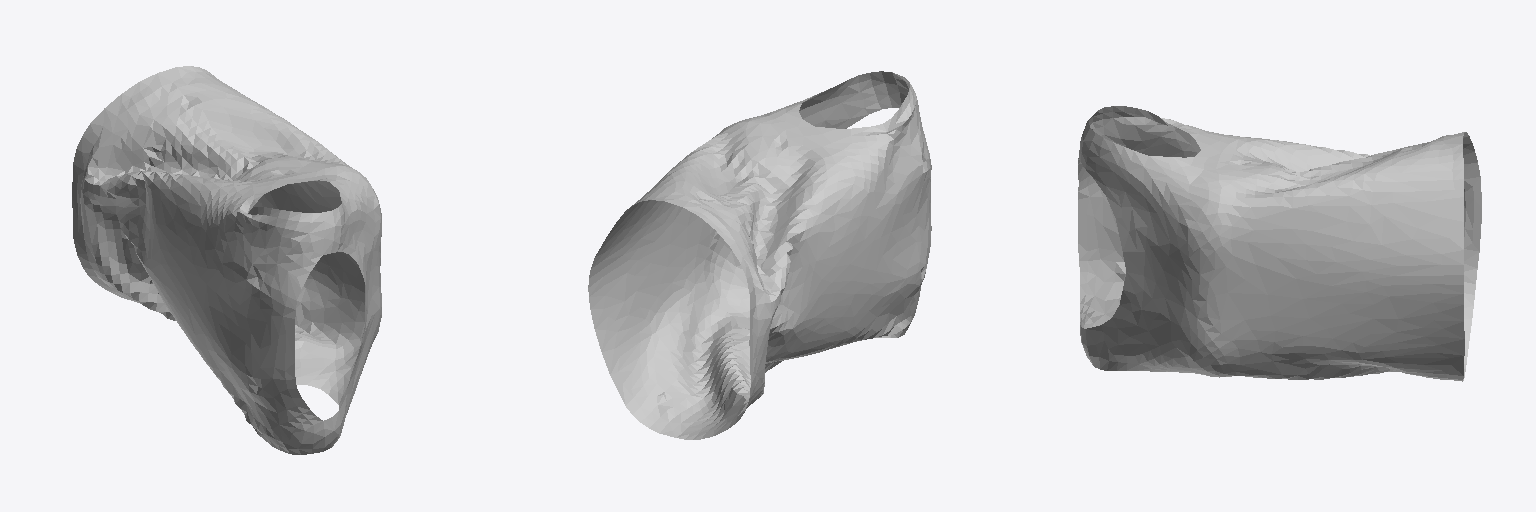
Rendered from crewneck_sparser.obj.
3 views of the same model, side by side, from view 1: azimuth 30°, elevation 25°; view 2: azimuth 150°, elevation 25°; view 3: azimuth 270°, elevation 25° (orthographic).
Bounding box in the file's own units: 0.1636 × 0.2161 × 0.3243.